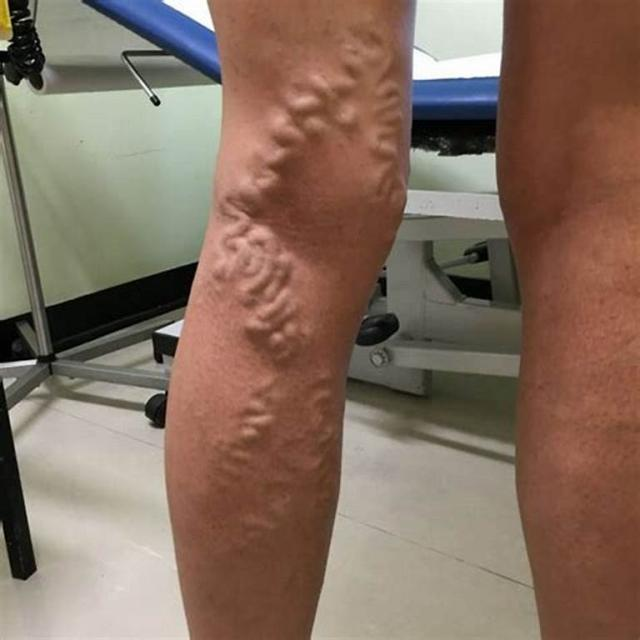Varicose: (188, 20, 455, 568)
